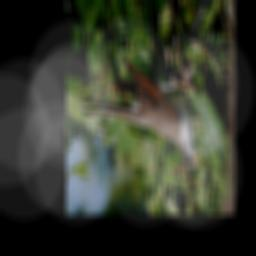Cuckoo: (77, 54, 202, 169)
